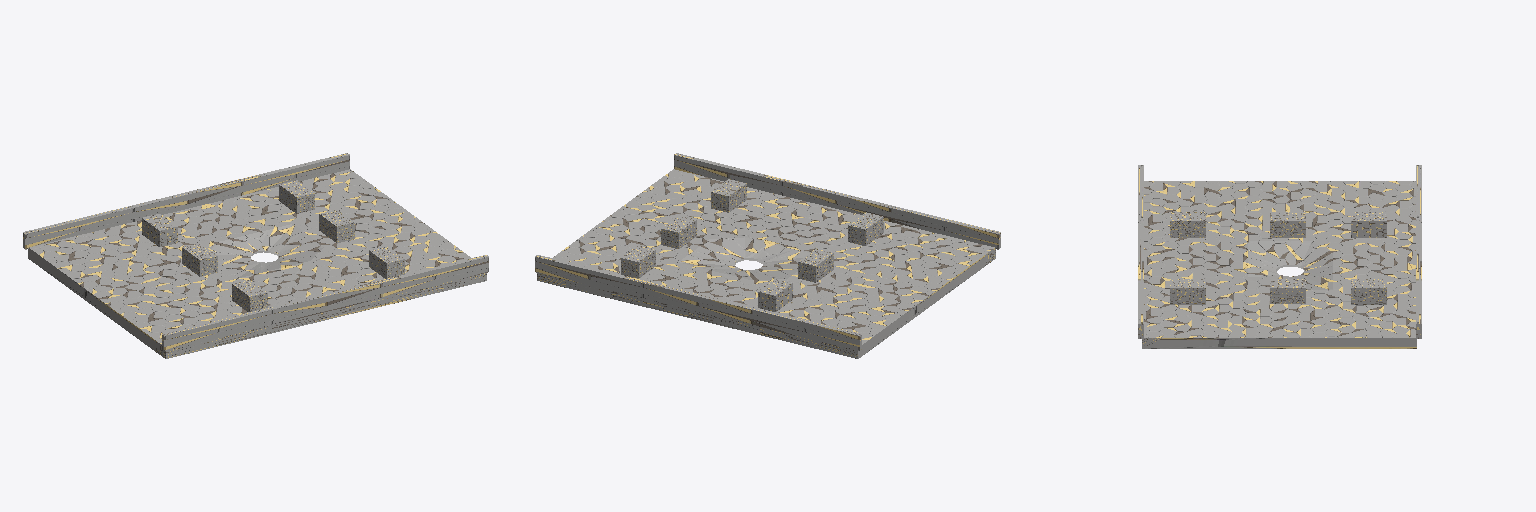
3 views of the same model, side by side, from view 1: azimuth 30°, elevation 25°; view 2: azimuth 150°, elevation 25°; view 3: azimuth 270°, elevation 25° (orthographic).
Visible parts, largest first — view 1: Mesa_style; view 2: Mesa_style; view 3: Mesa_style.
Part boxes in pixels (x1,y1,x2,y2): Mesa_style: (23, 153, 488, 358); Mesa_style: (535, 153, 1000, 358); Mesa_style: (1138, 165, 1421, 348).
Size of the model in its own units: 19.91 by 1.65 by 15.03.
Materials: 1 (1 with a texture image).